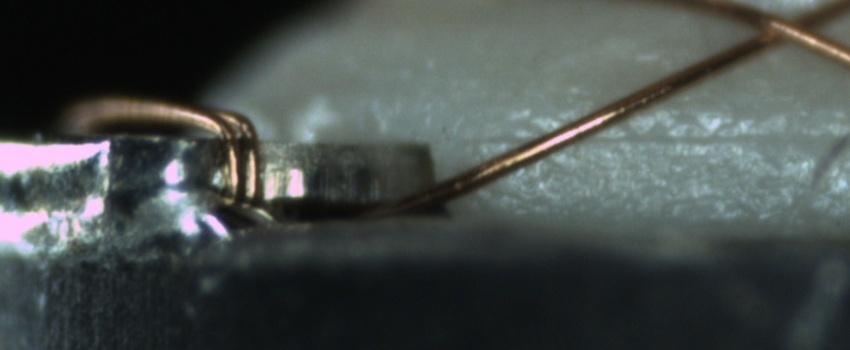CL: (741, 1, 840, 56)
DL: (475, 105, 849, 169)
TE: (55, 94, 263, 206)
